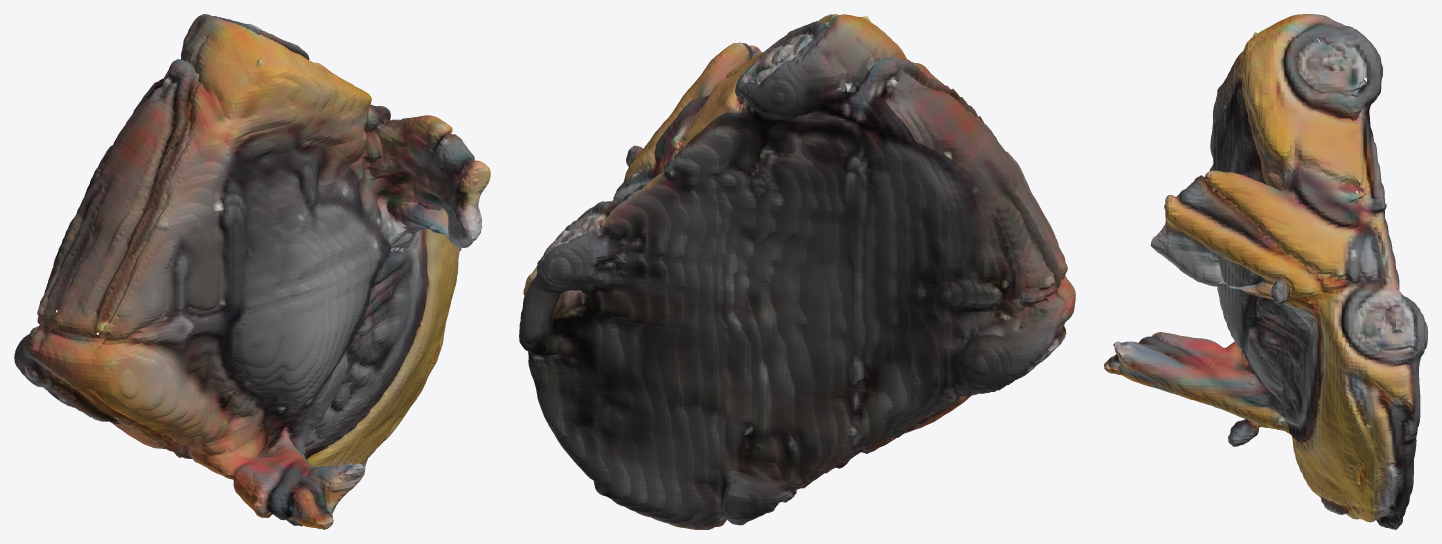
The model's file is 000042_automobile_model car_mclaren 570s.glb.
3 views of the same model, side by side, from view 1: azimuth 30°, elevation 25°; view 2: azimuth 150°, elevation 25°; view 3: azimuth 270°, elevation 25° (orthographic). The views are drawn at different scales.
Parts seen in each view (by area): view 1: world; view 2: world; view 3: world.
Boxes of the visible parts, <box> form: world: <box>14,14,490,529</box>; world: <box>519,14,1075,529</box>; world: <box>1104,14,1427,529</box>.
Size of the model in its own units: 0.9221 by 0.9437 by 0.613.
